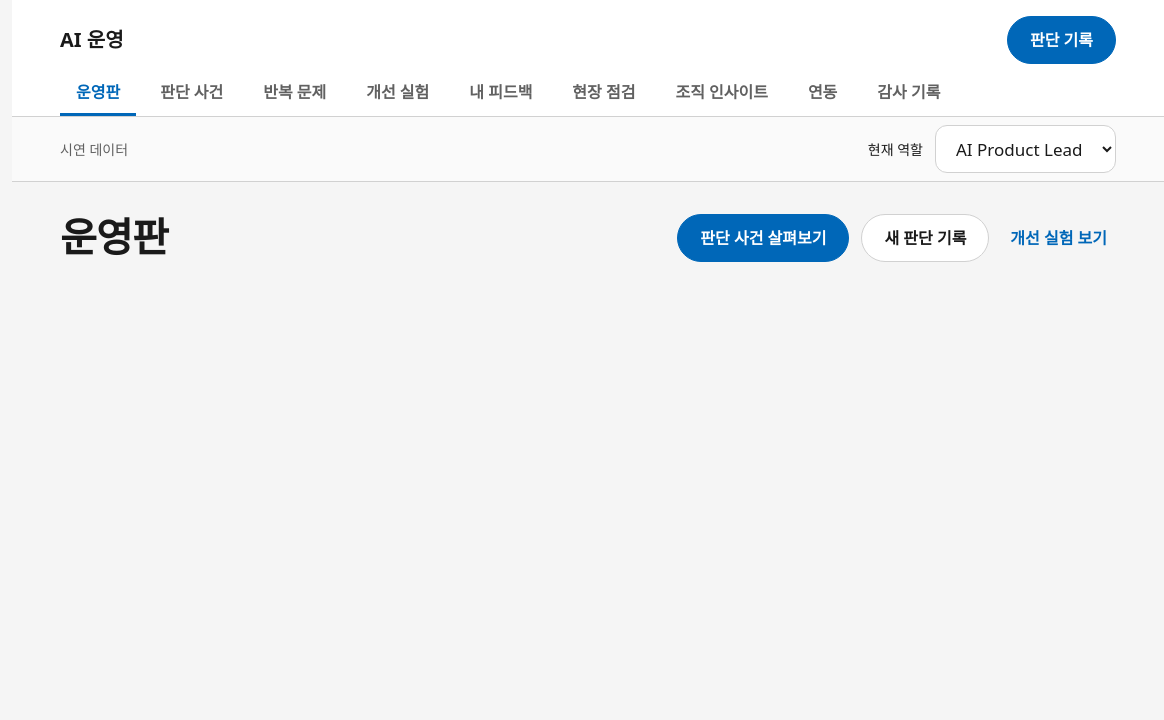
Test: 간소화한 OverrideLoop 첫 화면 › 판단 사건 진입은 유지한다
The width and height of the screenshot is (1164, 720).
Click the button "판단 사건 살펴보기" at [763, 238], box [677,214,849,262]
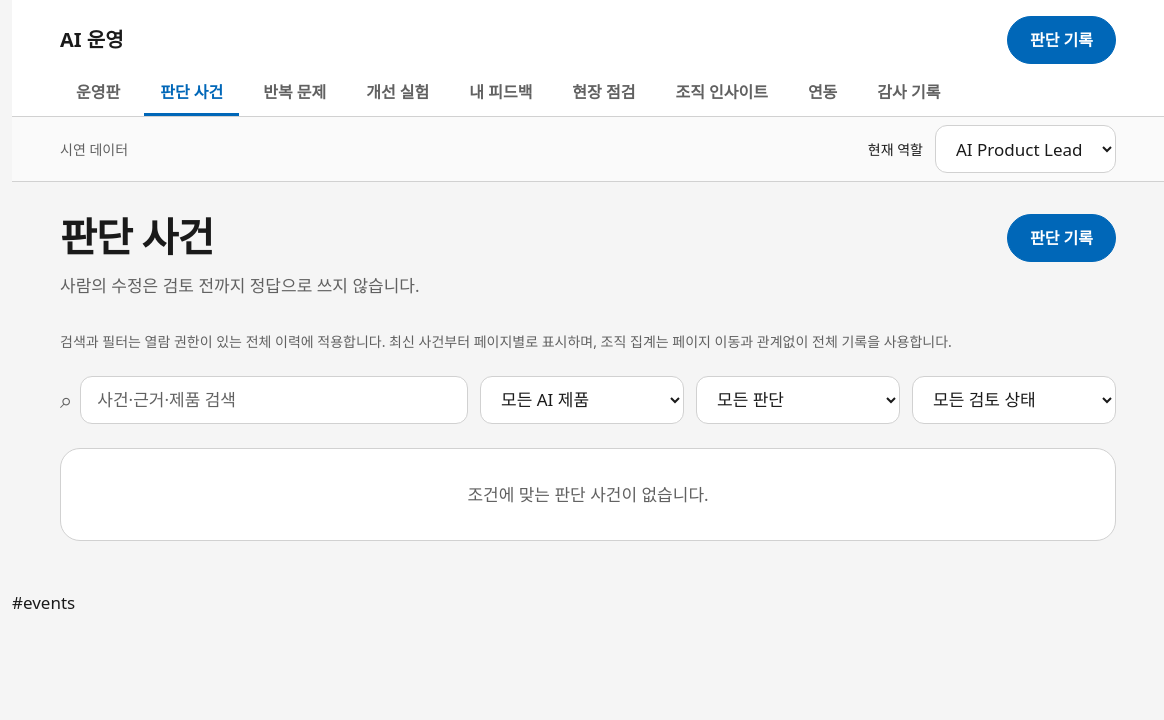
Expected: the number of buttons "판단 기록" is 2, [1007,16,1116,64]; [1007,214,1116,262]
Now the text with test id "workspace-location" reads "#events", box [12,591,75,614]
